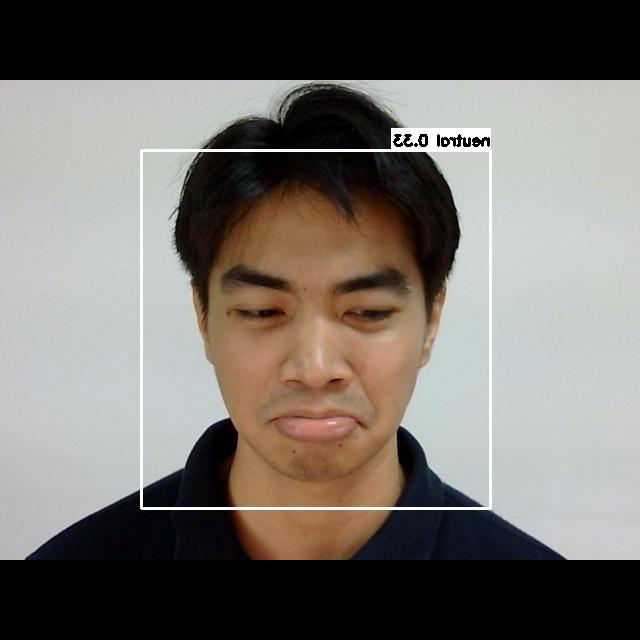Sad: (182, 221, 427, 452)
